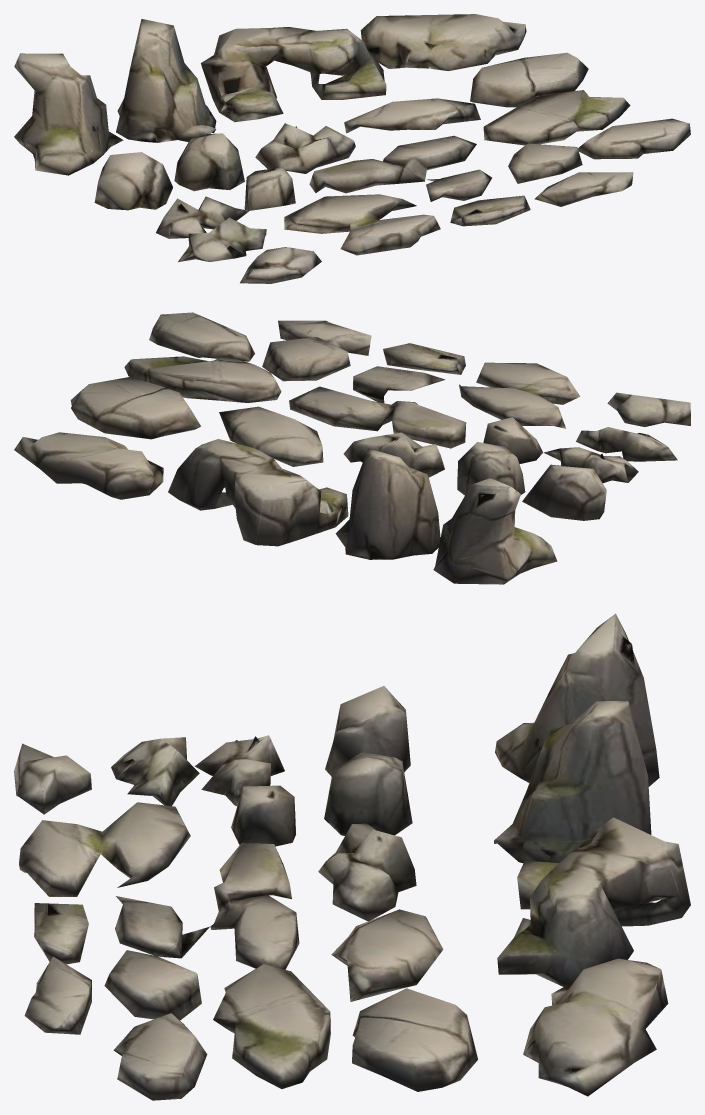
Rendered from scatter_a.glb.
3 views of the same model, one above another, from view 1: azimuth 30°, elevation 25°; view 2: azimuth 150°, elevation 25°; view 3: azimuth 270°, elevation 25° (orthographic). The views are drawn at different scales.
Visible parts, largest first — view 1: scatter_a_00, scatter_a_02, scatter_a_01, scatter_a_03, scatter_a_04, scatter_a_06, scatter_a_08, scatter_a_09, scatter_a_05, scatter_a_10, scatter_a_07, scatter_a_11 (+7 smaller); view 2: scatter_a_00, scatter_a_01, scatter_a_02, scatter_a_04, scatter_a_03, scatter_a_09, scatter_a_06, scatter_a_08, scatter_a_15, scatter_a_10, scatter_a_14, scatter_a_05 (+7 smaller); view 3: scatter_a_00, scatter_a_01, scatter_a_03, scatter_a_04, scatter_a_08, scatter_a_02, scatter_a_06, scatter_a_09, scatter_a_05, scatter_a_15, scatter_a_07, scatter_a_14 (+7 smaller).
Part boxes in pixels (x1,y1,x2,y2): scatter_a_00: [201, 27, 386, 122]; scatter_a_02: [14, 53, 123, 175]; scatter_a_01: [116, 19, 216, 142]; scatter_a_03: [360, 14, 526, 70]; scatter_a_04: [309, 135, 491, 201]; scatter_a_06: [284, 194, 440, 255]; scatter_a_08: [483, 90, 630, 145]; scatter_a_09: [470, 52, 588, 107]; scatter_a_05: [156, 167, 295, 238]; scatter_a_10: [94, 152, 172, 210]; scatter_a_07: [255, 123, 355, 173]; scatter_a_11: [174, 133, 244, 191]; scatter_a_00: [168, 439, 348, 546]; scatter_a_01: [335, 448, 440, 559]; scatter_a_02: [433, 478, 557, 584]; scatter_a_04: [289, 366, 466, 448]; scatter_a_03: [14, 432, 163, 499]; scatter_a_09: [70, 377, 200, 439]; scatter_a_06: [459, 362, 580, 428]; scatter_a_08: [124, 355, 281, 402]; scatter_a_15: [219, 406, 323, 466]; scatter_a_10: [522, 464, 606, 520]; scatter_a_14: [149, 312, 254, 361]; scatter_a_05: [483, 417, 638, 483]; scatter_a_00: [497, 817, 690, 986]; scatter_a_01: [494, 700, 651, 863]; scatter_a_03: [523, 958, 668, 1096]; scatter_a_04: [115, 842, 299, 969]; scatter_a_08: [213, 964, 330, 1088]; scatter_a_02: [495, 613, 659, 786]; scatter_a_06: [19, 802, 190, 896]; scatter_a_09: [352, 988, 477, 1091]; scatter_a_05: [195, 735, 295, 846]; scatter_a_15: [331, 909, 443, 1001]; scatter_a_07: [318, 823, 416, 921]; scatter_a_14: [113, 1013, 207, 1100].
Size of the model in its own units: 1.9 by 0.335 by 1.47.
Materials: 1 (1 with a texture image).
